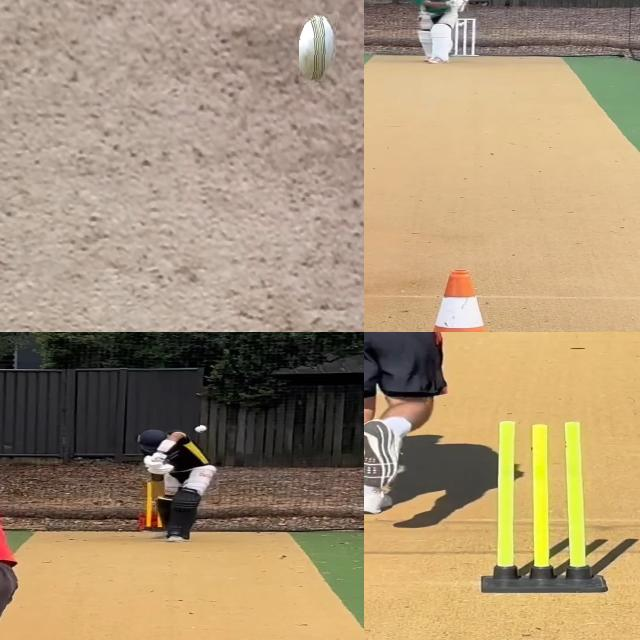Cricket ball: (299, 14, 337, 84), (195, 426, 208, 434), (458, 22, 468, 27)
Stumps: (478, 420, 610, 594), (452, 18, 476, 57)
